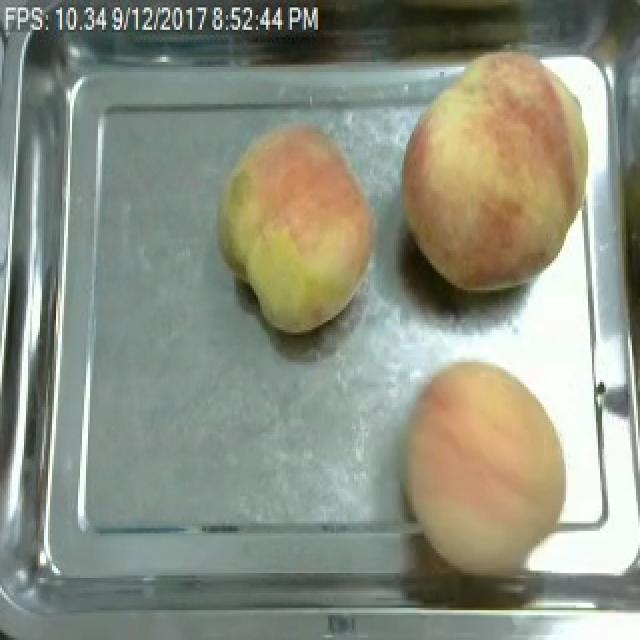Fruit: (390, 35, 612, 302), (390, 352, 576, 578), (208, 114, 386, 340)
